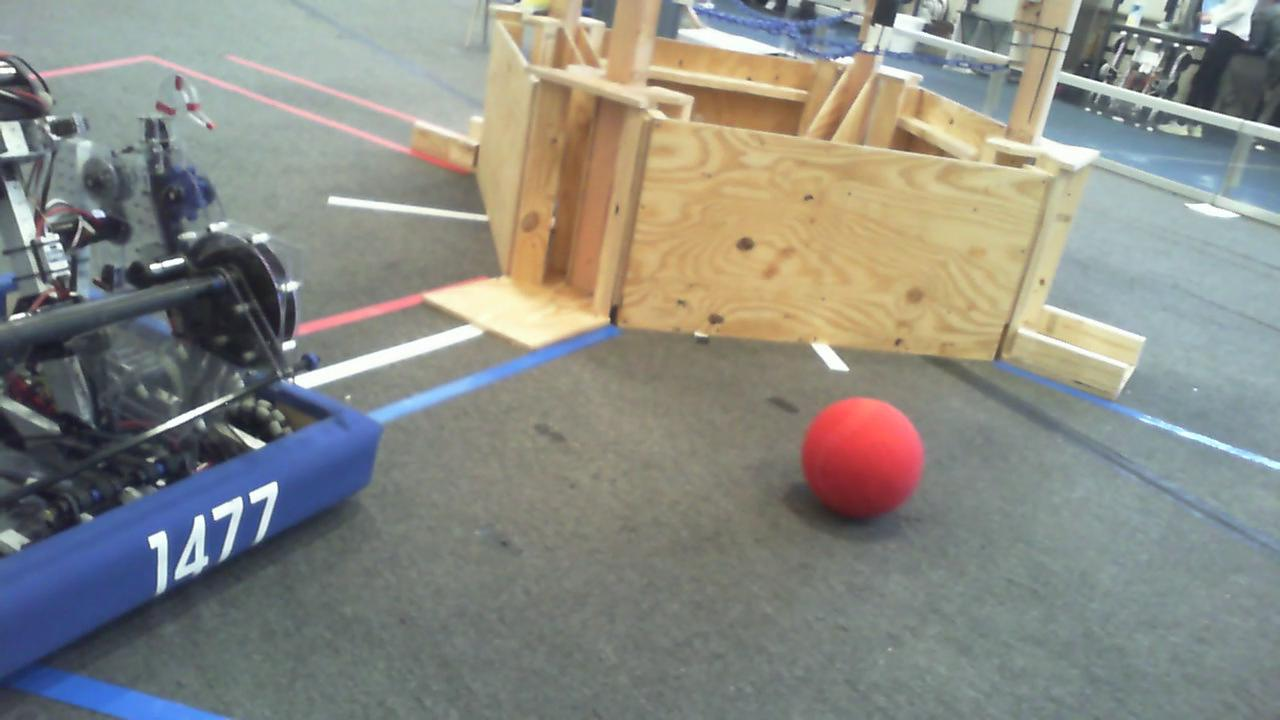robot: (0, 93, 377, 699)
